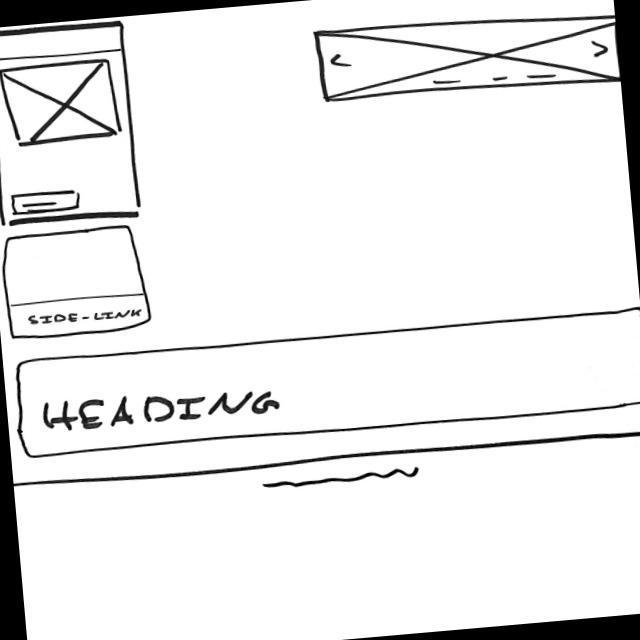container: (14, 304, 640, 463), (1, 18, 144, 230), (1, 222, 159, 347)
icon-button: (7, 189, 82, 217)
image: (310, 4, 621, 112), (1, 57, 127, 148)
label: (40, 378, 284, 436), (27, 305, 145, 329)
text: (260, 465, 422, 492)
